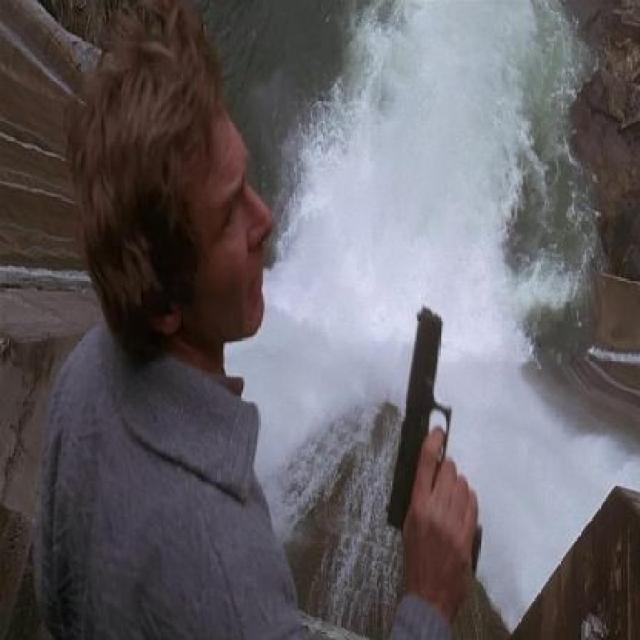gun: (396, 289, 476, 588)
